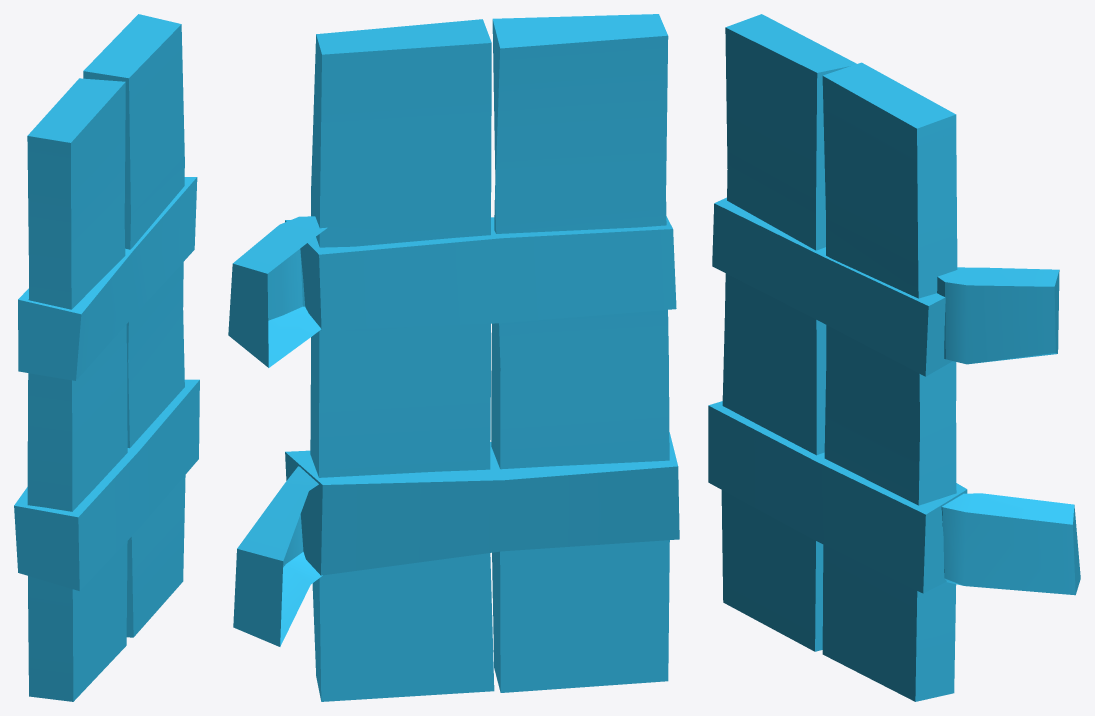
File: Windows_shutters_L.fbx
3 views of the same model, side by side, from view 1: azimuth 30°, elevation 25°; view 2: azimuth 150°, elevation 25°; view 3: azimuth 270°, elevation 25° (orthographic). The views are drawn at different scales.
Parts seen in each view (by area): view 1: Windows_shutters_L; view 2: Windows_shutters_L; view 3: Windows_shutters_L.
Boxes of the visible parts, box(x1,y1,x2,y2) form: Windows_shutters_L: box(14, 14, 199, 701); Windows_shutters_L: box(228, 14, 679, 701); Windows_shutters_L: box(708, 14, 1080, 701).
Bounding box in the file's own units: 110 × 225 × 131.
